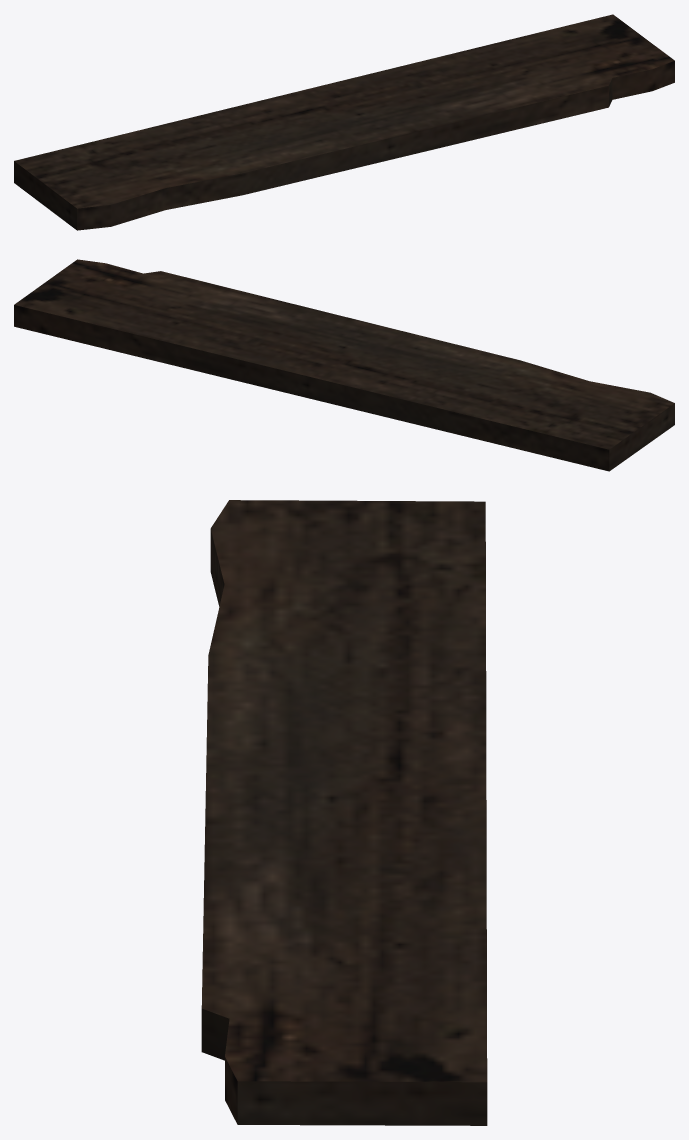
File: wooden_plank_3.fbx
3 renders of one model, top to bottom at view 1: azimuth 30°, elevation 25°; view 2: azimuth 150°, elevation 25°; view 3: azimuth 270°, elevation 25°, orthographic. The views are drawn at different scales.
Parts seen in each view (by area): view 1: wooden_plank_3; view 2: wooden_plank_3; view 3: wooden_plank_3.
Boxes of the visible parts, x1,y1,x2,y2 form: wooden_plank_3: (14, 14, 674, 230); wooden_plank_3: (14, 259, 674, 471); wooden_plank_3: (201, 500, 487, 1125).
Bounding box in the file's own units: 0.8584 × 0.1779 × 0.03.
